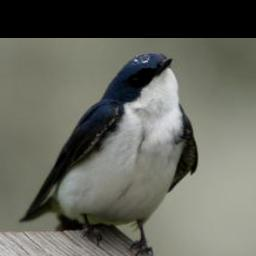Swallow: (18, 51, 200, 256)
